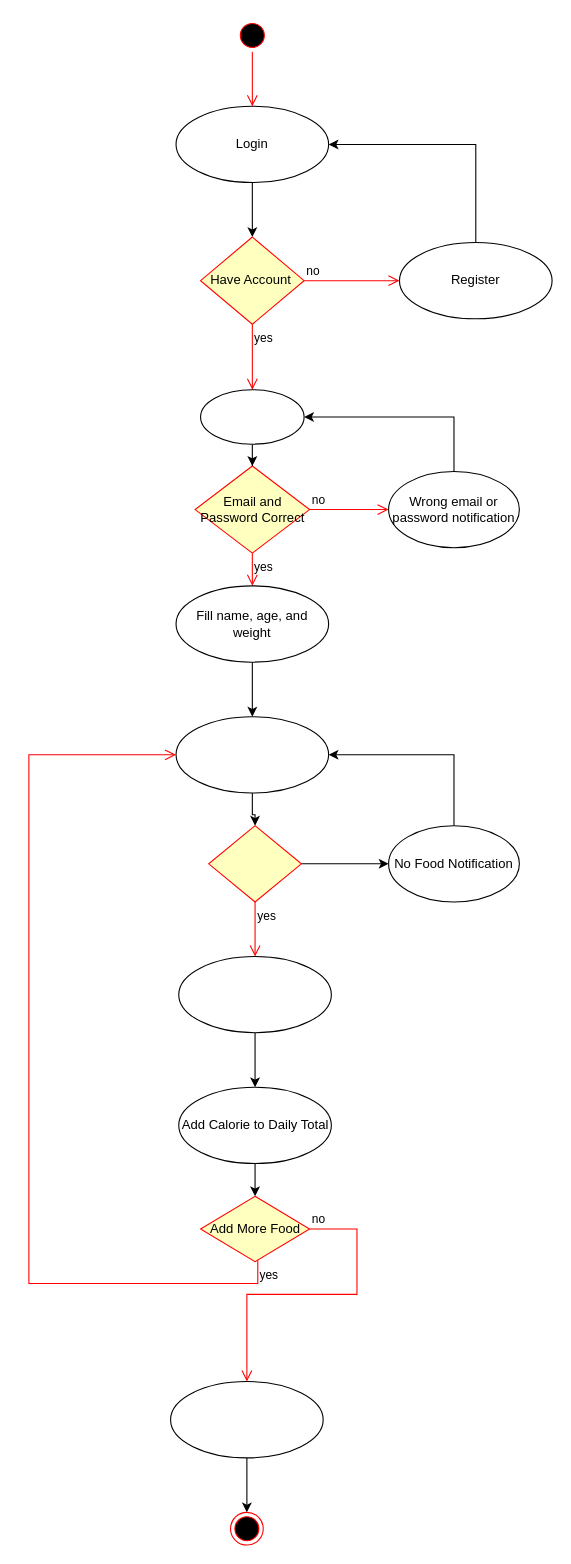
The diagram is 571 pixels wide and 1564 high, and some of its shapes have lost their labels. The shapes that lost their labels are listed below. From the top down, each one's box as (x1, y1, x2, y2) in pixels, then its label:
(199, 389, 304, 444): Insert Email and Password
(175, 716, 329, 793): Select Food
(208, 825, 301, 902): is Food in database
(178, 955, 331, 1033): Display Food Info
(169, 1380, 323, 1458): View diet information
